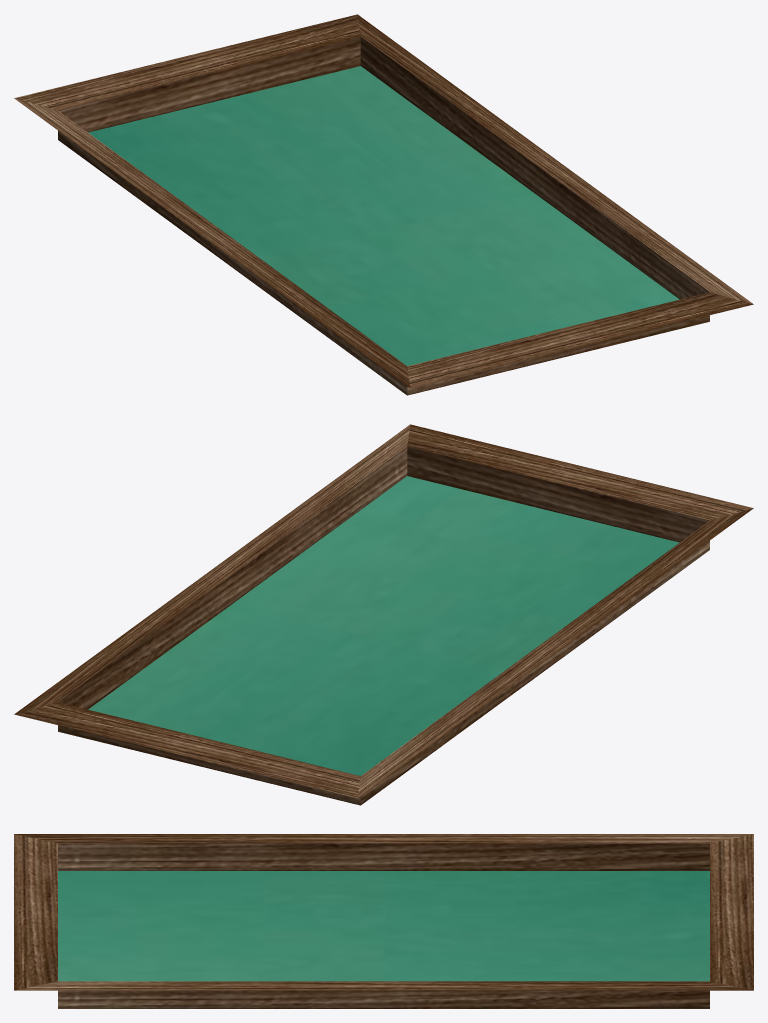
File: billiard table1.fbx
3 renders of one model, top to bottom at view 1: azimuth 30°, elevation 25°; view 2: azimuth 150°, elevation 25°; view 3: azimuth 270°, elevation 25°, orthographic. The views are drawn at different scales.
Parts seen in each view (by area): view 1: Cube; view 2: Cube; view 3: Cube.
Boxes of the visible parts, <box> form: Cube: <box>14,14,753,395</box>; Cube: <box>14,424,753,805</box>; Cube: <box>14,834,753,1008</box>.
Bounding box in the file's own units: 235 × 19.24 × 469.
